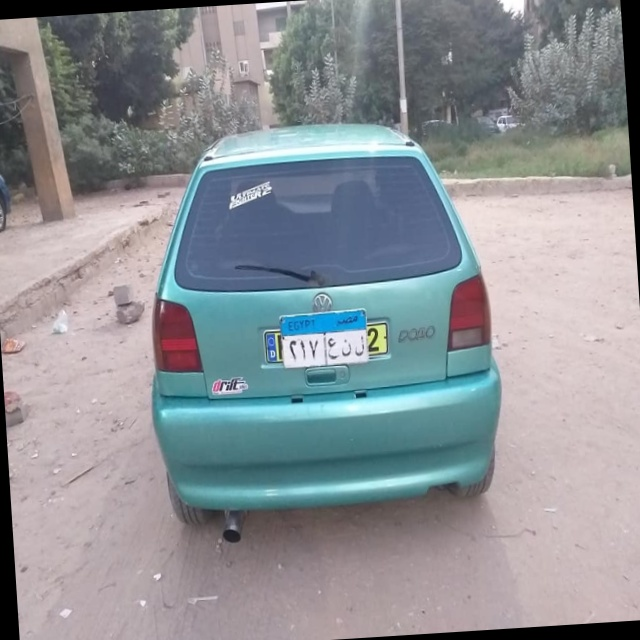License Plate: (277, 306, 370, 371)
